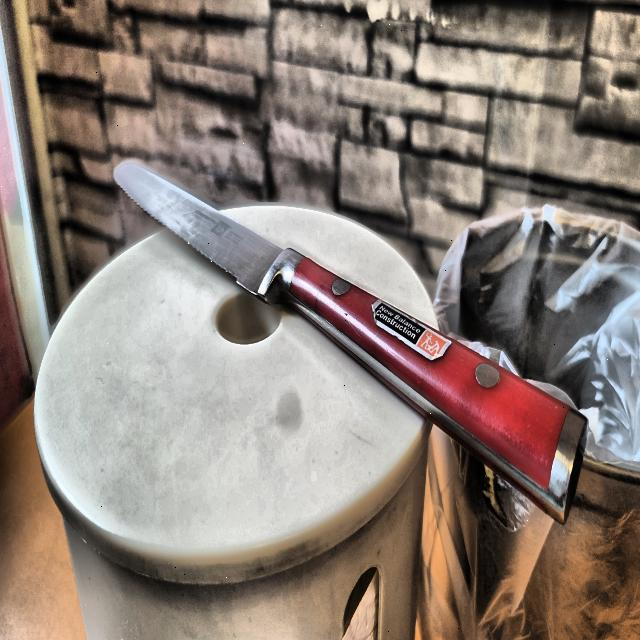knife: (115, 153, 590, 527)
